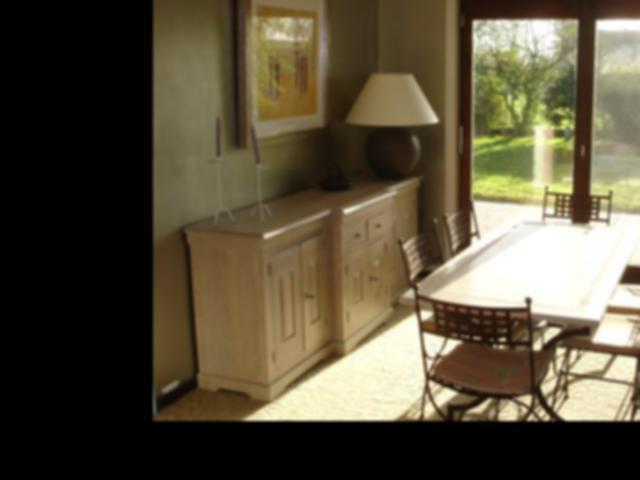Matera: (471, 3, 640, 227)
